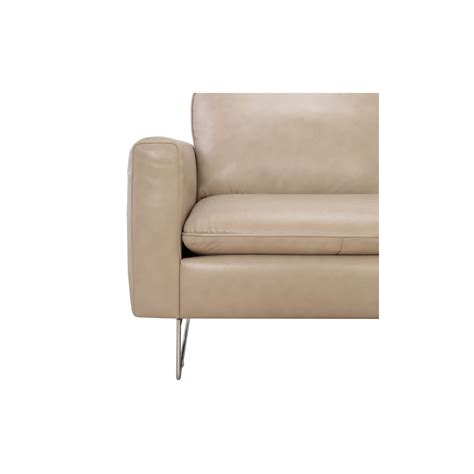cuero: (125, 91, 381, 320)
